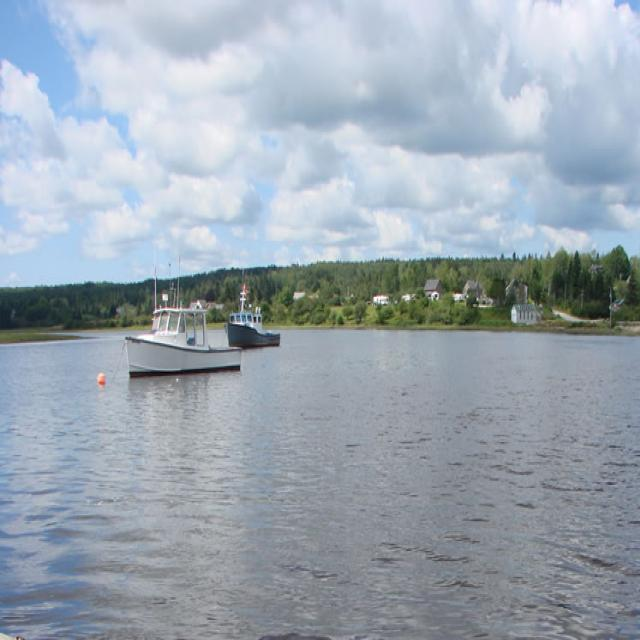houseboat: (124, 297, 242, 382), (228, 288, 272, 352)
